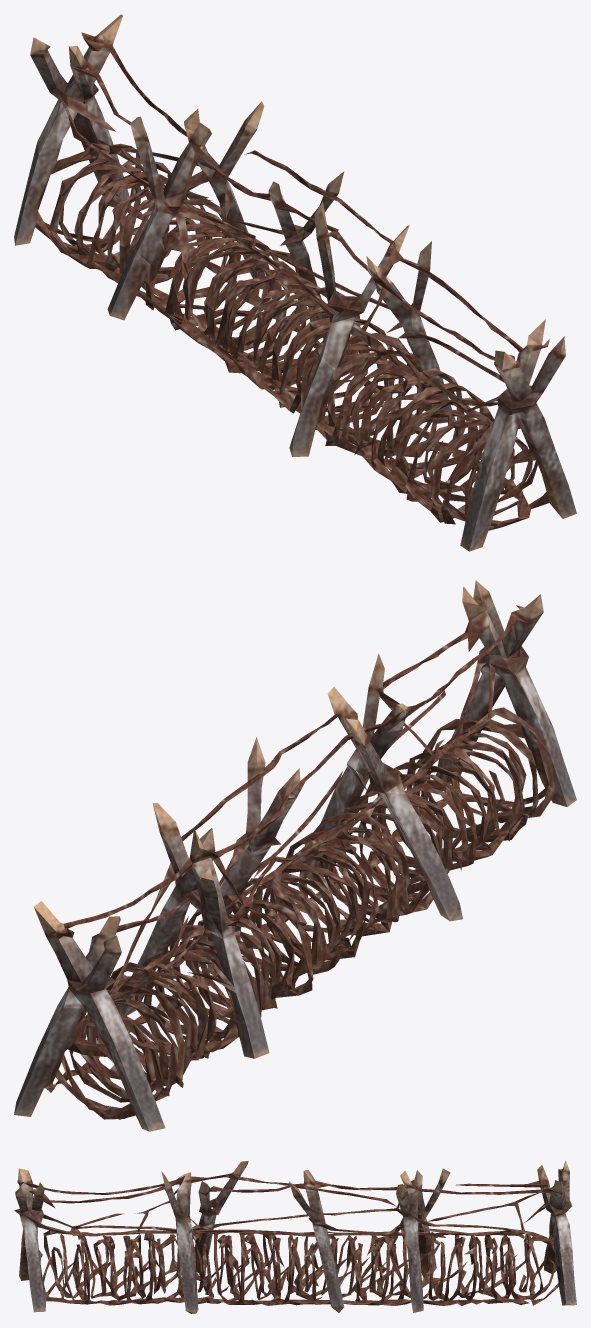
Rendered from barbed_wire.obj.
3 renders of one model, top to bottom at view 1: azimuth 30°, elevation 25°; view 2: azimuth 150°, elevation 25°; view 3: azimuth 270°, elevation 25°, orthographic. The views are drawn at different scales.
Parts seen in each view (by area): view 1: barbed_wire; view 2: barbed_wire; view 3: barbed_wire.
Part boxes in pixels (left/top/right/bottom): barbed_wire: left=14, top=14, right=576, bottom=551; barbed_wire: left=14, top=580, right=576, bottom=1131; barbed_wire: left=14, top=1160, right=576, bottom=1313.
Bounding box in the file's own units: 1.21 × 1.62 × 6.
Materials: 1 (1 with a texture image).
